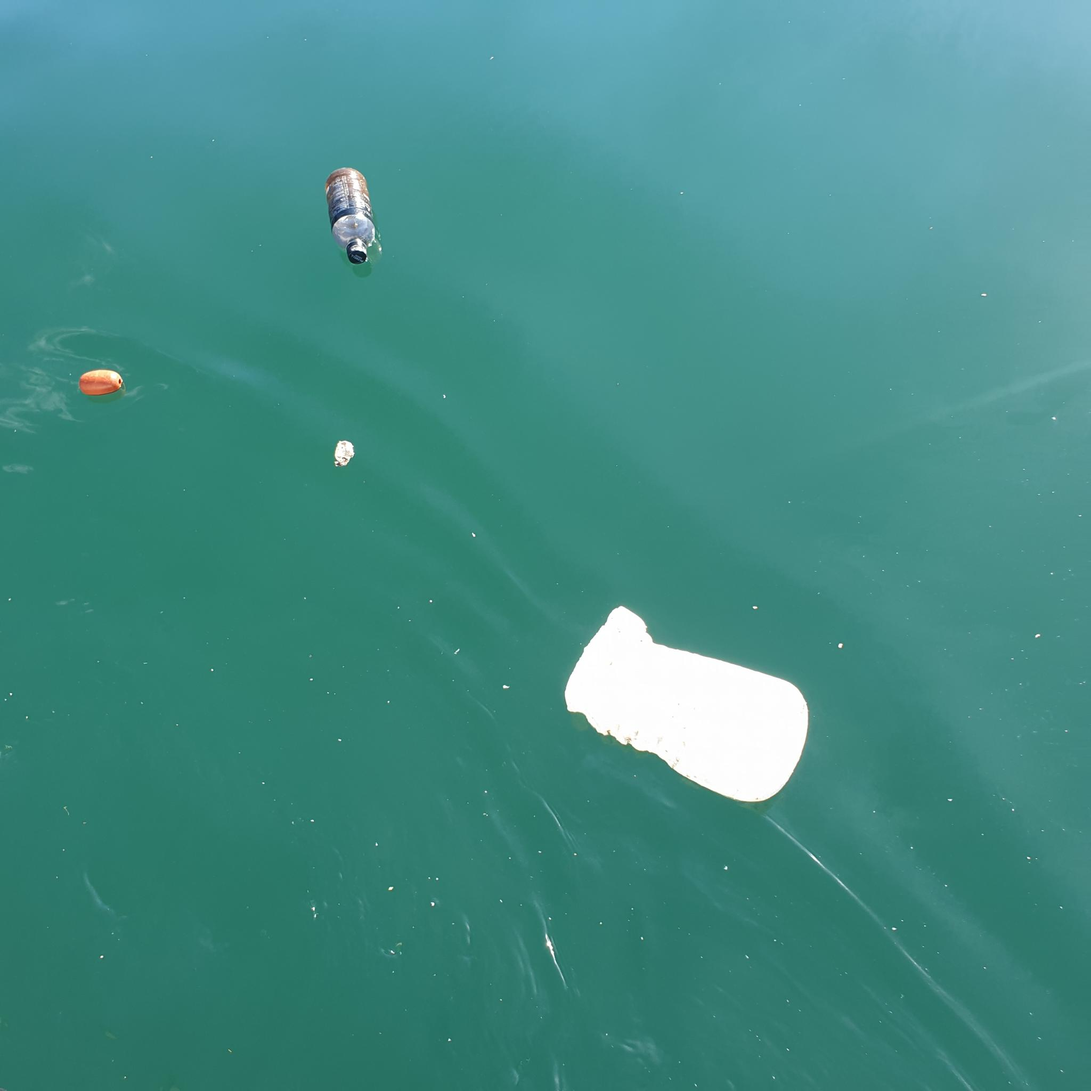sampah_terapung: (565, 607, 809, 802), (326, 168, 376, 265), (80, 370, 124, 395), (336, 442, 355, 467)
